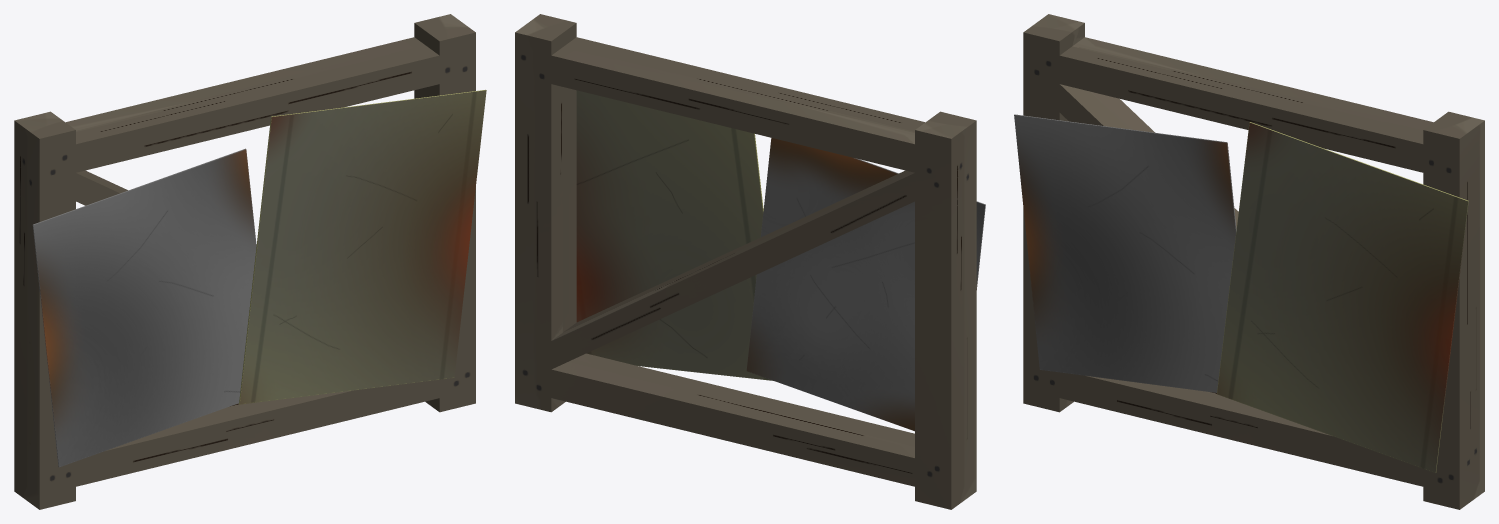
The model's file is Junk Fence2.glb.
3 views of the same model, side by side, from view 1: azimuth 30°, elevation 25°; view 2: azimuth 150°, elevation 25°; view 3: azimuth 330°, elevation 25° (orthographic).
Visible parts, largest first — view 1: Metal5, Fence, Metal2; view 2: Fence, Metal5, Metal2; view 3: Metal5, Fence, Metal2.
Part boxes in pixels (left/top/right/bottom): Metal5: left=239, top=89, right=486, bottom=404; Fence: left=14, top=14, right=475, bottom=509; Metal2: left=32, top=148, right=256, bottom=467; Fence: left=515, top=14, right=976, bottom=509; Metal5: left=576, top=90, right=773, bottom=380; Metal2: left=746, top=138, right=985, bottom=431; Metal5: left=1217, top=122, right=1468, bottom=472; Fence: left=1023, top=14, right=1484, bottom=509; Metal2: left=1014, top=114, right=1236, bottom=392.
Size of the model in its own units: 2.82 by 2.2 by 0.3063.
3 materials, 3 textured.
